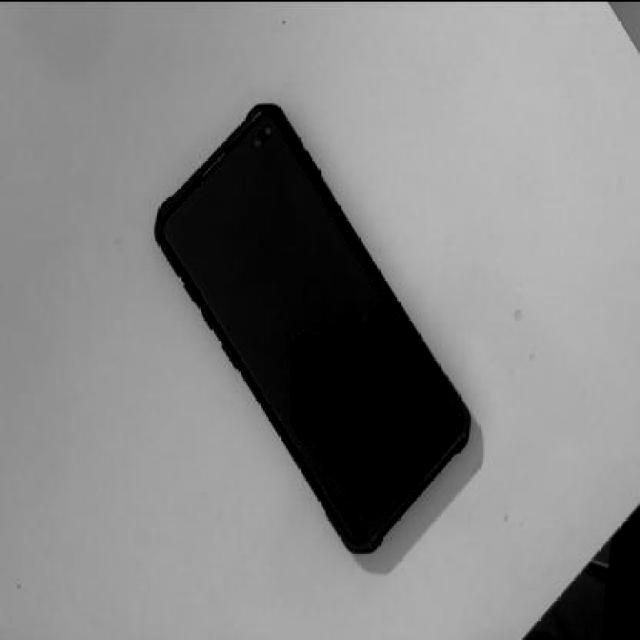fake: (154, 104, 472, 554)
